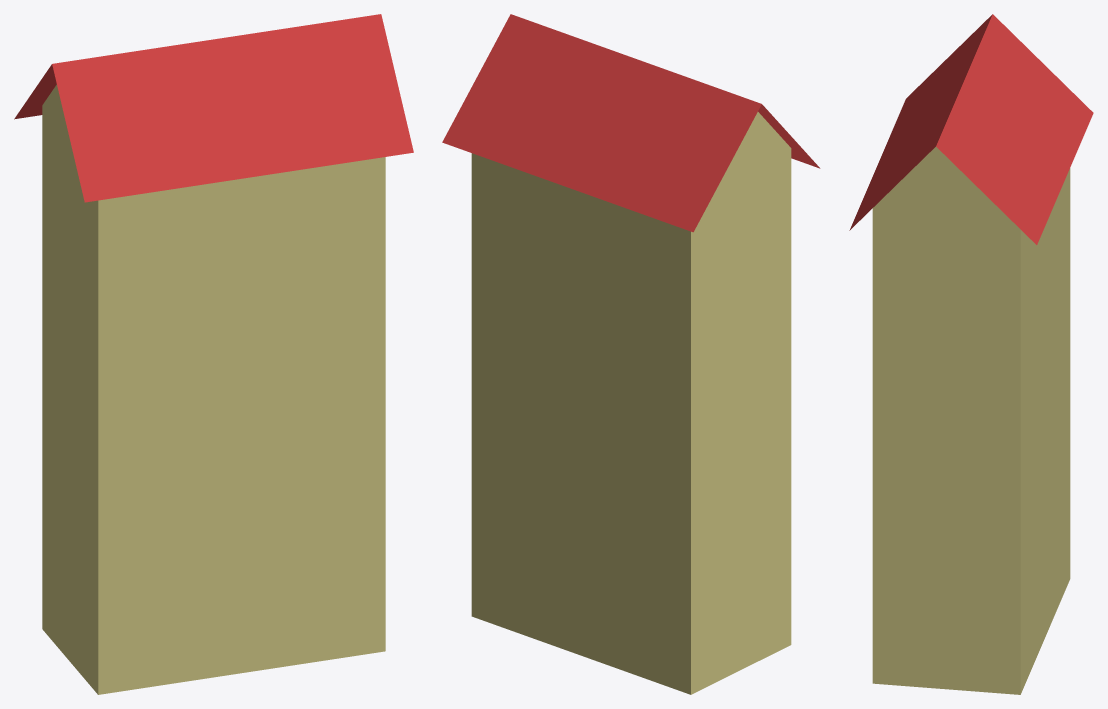
The picture shows the model from 3 angles, left to right: view 1: azimuth 30°, elevation 25°; view 2: azimuth 150°, elevation 25°; view 3: azimuth 270°, elevation 25°; orthographic projection. The views are drawn at different scales.
Size of the model in its own units: 8.59 by 6.04 by 15.02.
